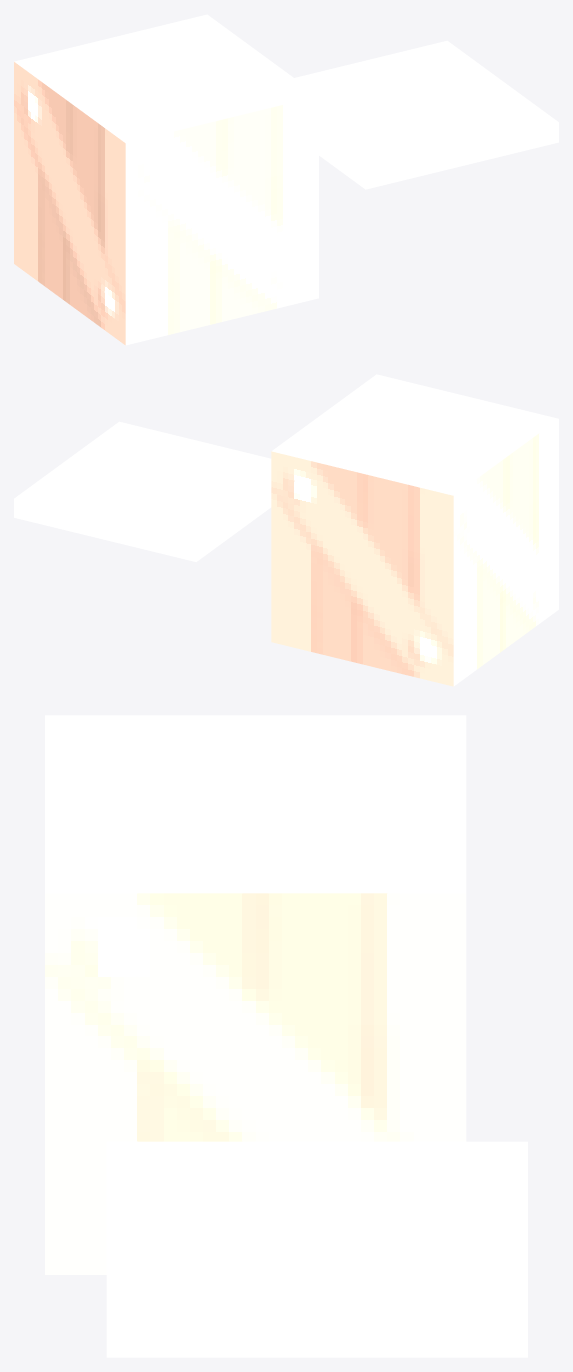
The model's file is tileset.gltf.
3 views of the same model, one above another, from view 1: azimuth 30°, elevation 25°; view 2: azimuth 150°, elevation 25°; view 3: azimuth 270°, elevation 25° (orthographic). The views are drawn at different scales.
Parts seen in each view (by area): view 1: crate, default_floor; view 2: crate, default_floor; view 3: crate, default_floor.
Part boxes in pixels (x1,y1,x2,y2): crate: [14, 14, 318, 345]; default_floor: [294, 40, 558, 189]; crate: [271, 374, 558, 686]; default_floor: [14, 421, 271, 561]; crate: [45, 715, 466, 1274]; default_floor: [106, 1141, 527, 1357].
Bounding box in the file's own units: 4.65 × 2 × 2.29.
